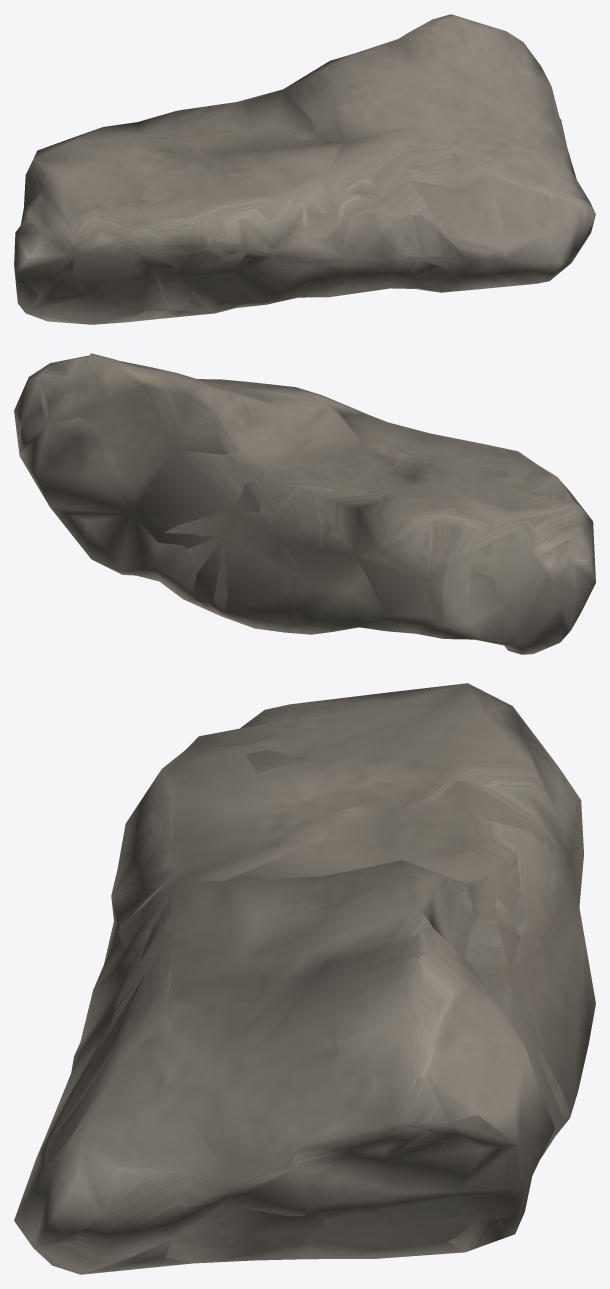
The model's file is rock-moon-01.467ec5d2.glb.
3 renders of one model, top to bottom at view 1: azimuth 30°, elevation 25°; view 2: azimuth 150°, elevation 25°; view 3: azimuth 270°, elevation 25°, orthographic. The views are drawn at different scales.
Parts seen in each view (by area): view 1: model; view 2: model; view 3: model.
Part boxes in pixels (<box>): model: <box>14,14,595,324</box>; model: <box>14,353,595,654</box>; model: <box>14,683,595,1274</box>.
Bounding box in the file's own units: 0.2115 × 0.075 × 0.1112.
Materials: 1 (1 with a texture image).
